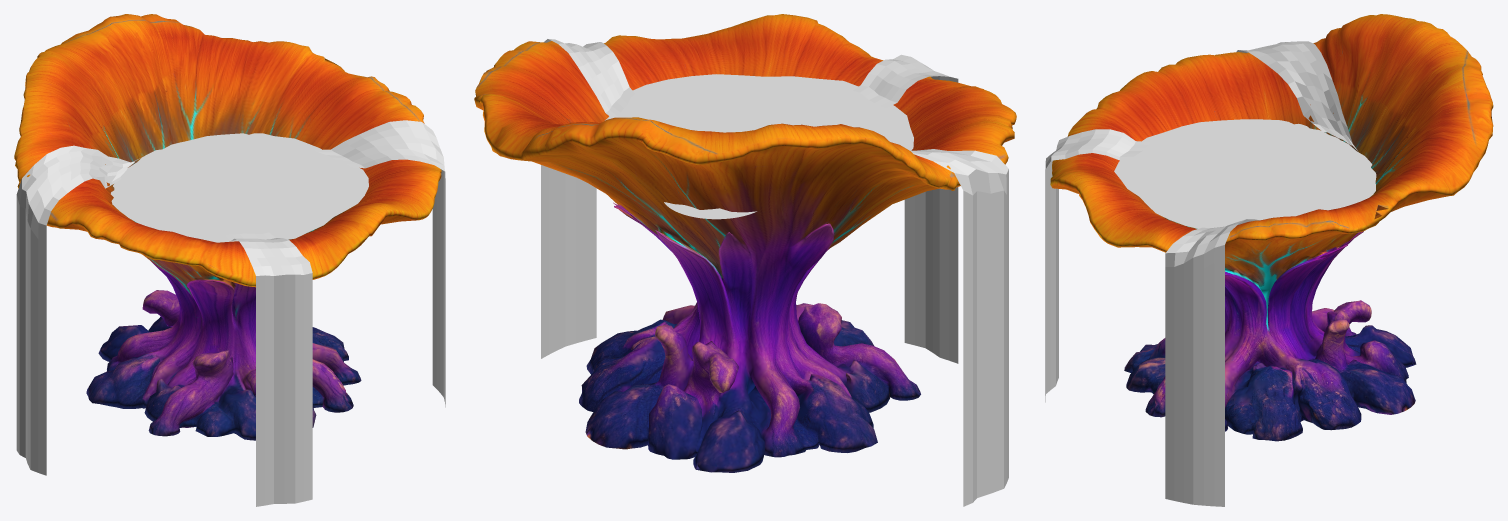
The model's file is fungus.fbx.
The picture shows the model from 3 angles, left to right: view 1: azimuth 30°, elevation 25°; view 2: azimuth 150°, elevation 25°; view 3: azimuth 270°, elevation 25°; orthographic projection. The views are drawn at different scales.
Visible parts, largest first — view 1: fungus, Pool, Fall0, Fall2, Fall1; view 2: fungus, Fall2, Pool, Fall1, Fall0; view 3: fungus, Pool, Fall1, Fall0, Fall2.
Boxes of the visible parts, x1=… form: fungus: x1=14, y1=14, x2=441, y2=440; Pool: x1=111, y1=133, x2=368, y2=242; Fall0: x1=226, y1=232, x2=312, y2=506; Fall2: x1=16, y1=145, x2=143, y2=475; Fall1: x1=315, y1=120, x2=445, y2=407; fungus: x1=474, y1=14, x2=1016, y2=472; Fall2: x1=910, y1=149, x2=1008, y2=506; Pool: x1=605, y1=74, x2=913, y2=219; Fall1: x1=541, y1=39, x2=635, y2=358; Fall0: x1=852, y1=54, x2=958, y2=363; fungus: x1=1050, y1=14, x2=1493, y2=441; Pool: x1=1114, y1=119, x2=1376, y2=228; Fall1: x1=1165, y1=219, x2=1259, y2=506; Fall0: x1=1045, y1=129, x2=1149, y2=402; Fall2: x1=1236, y1=41, x2=1357, y2=150.
Bounding box in the file's own units: 9 × 7.2 × 8.65.
